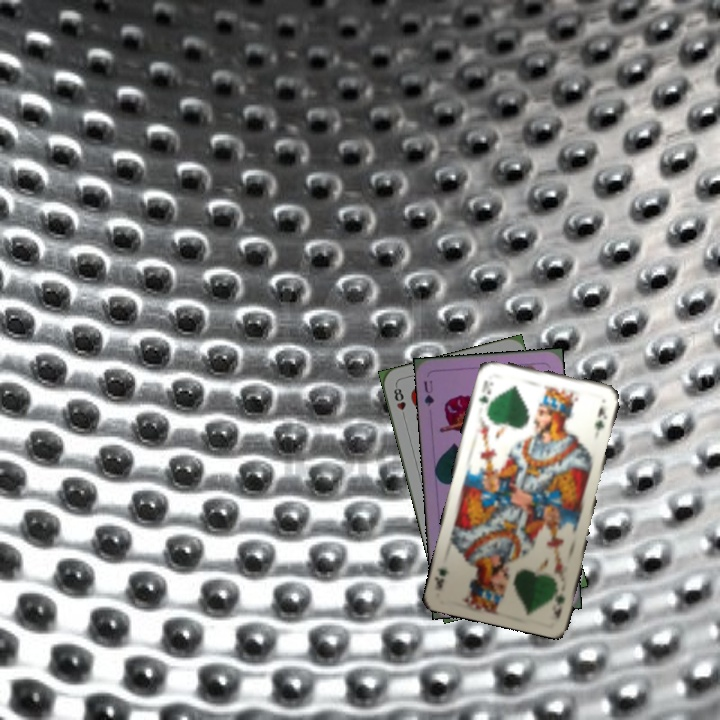GK: (550, 583, 567, 622), (475, 376, 496, 406)
GU: (419, 376, 437, 409)
H8: (390, 382, 409, 422)
